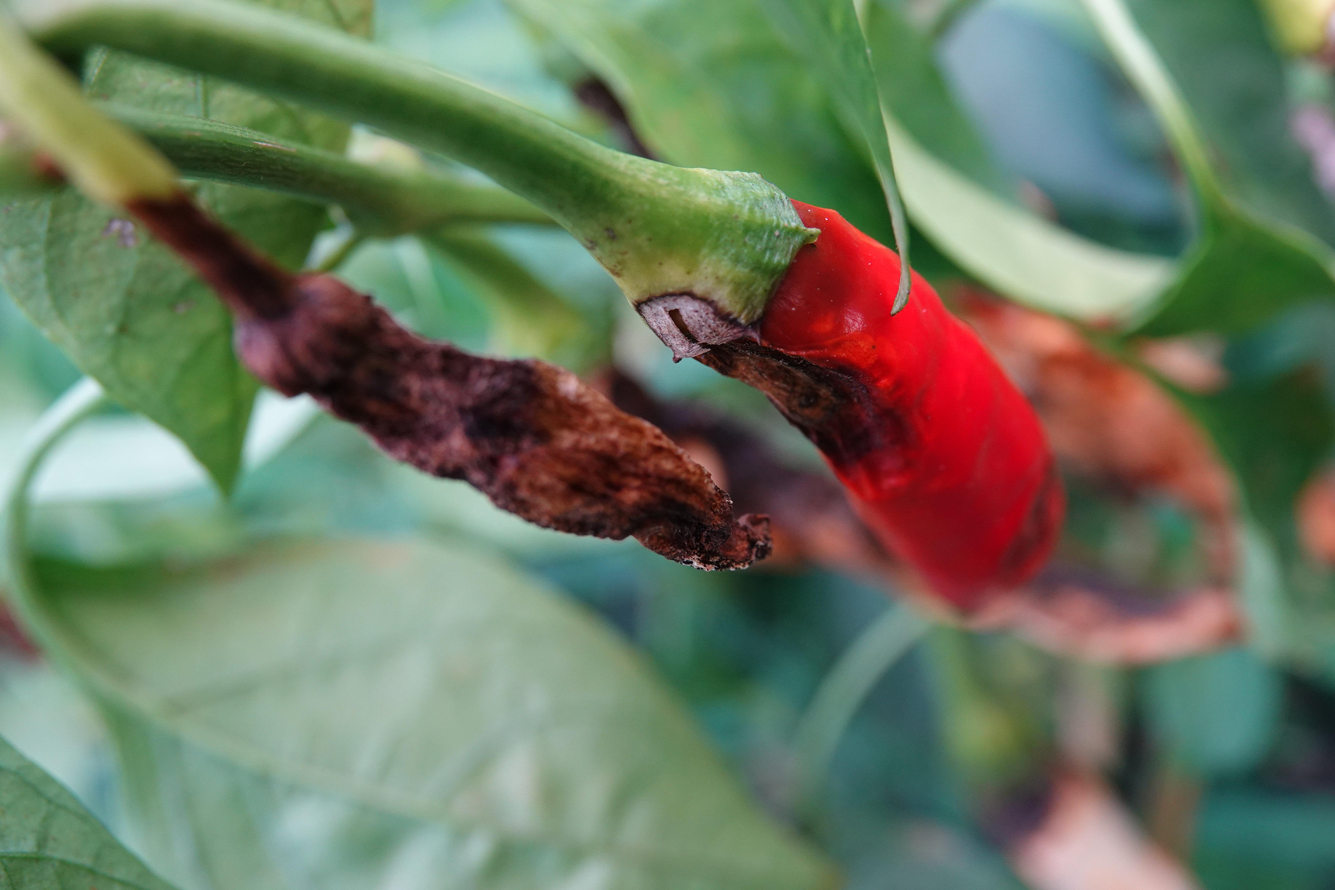Busuk Buah Antraknosa: (142, 196, 784, 586), (637, 167, 1069, 619)
